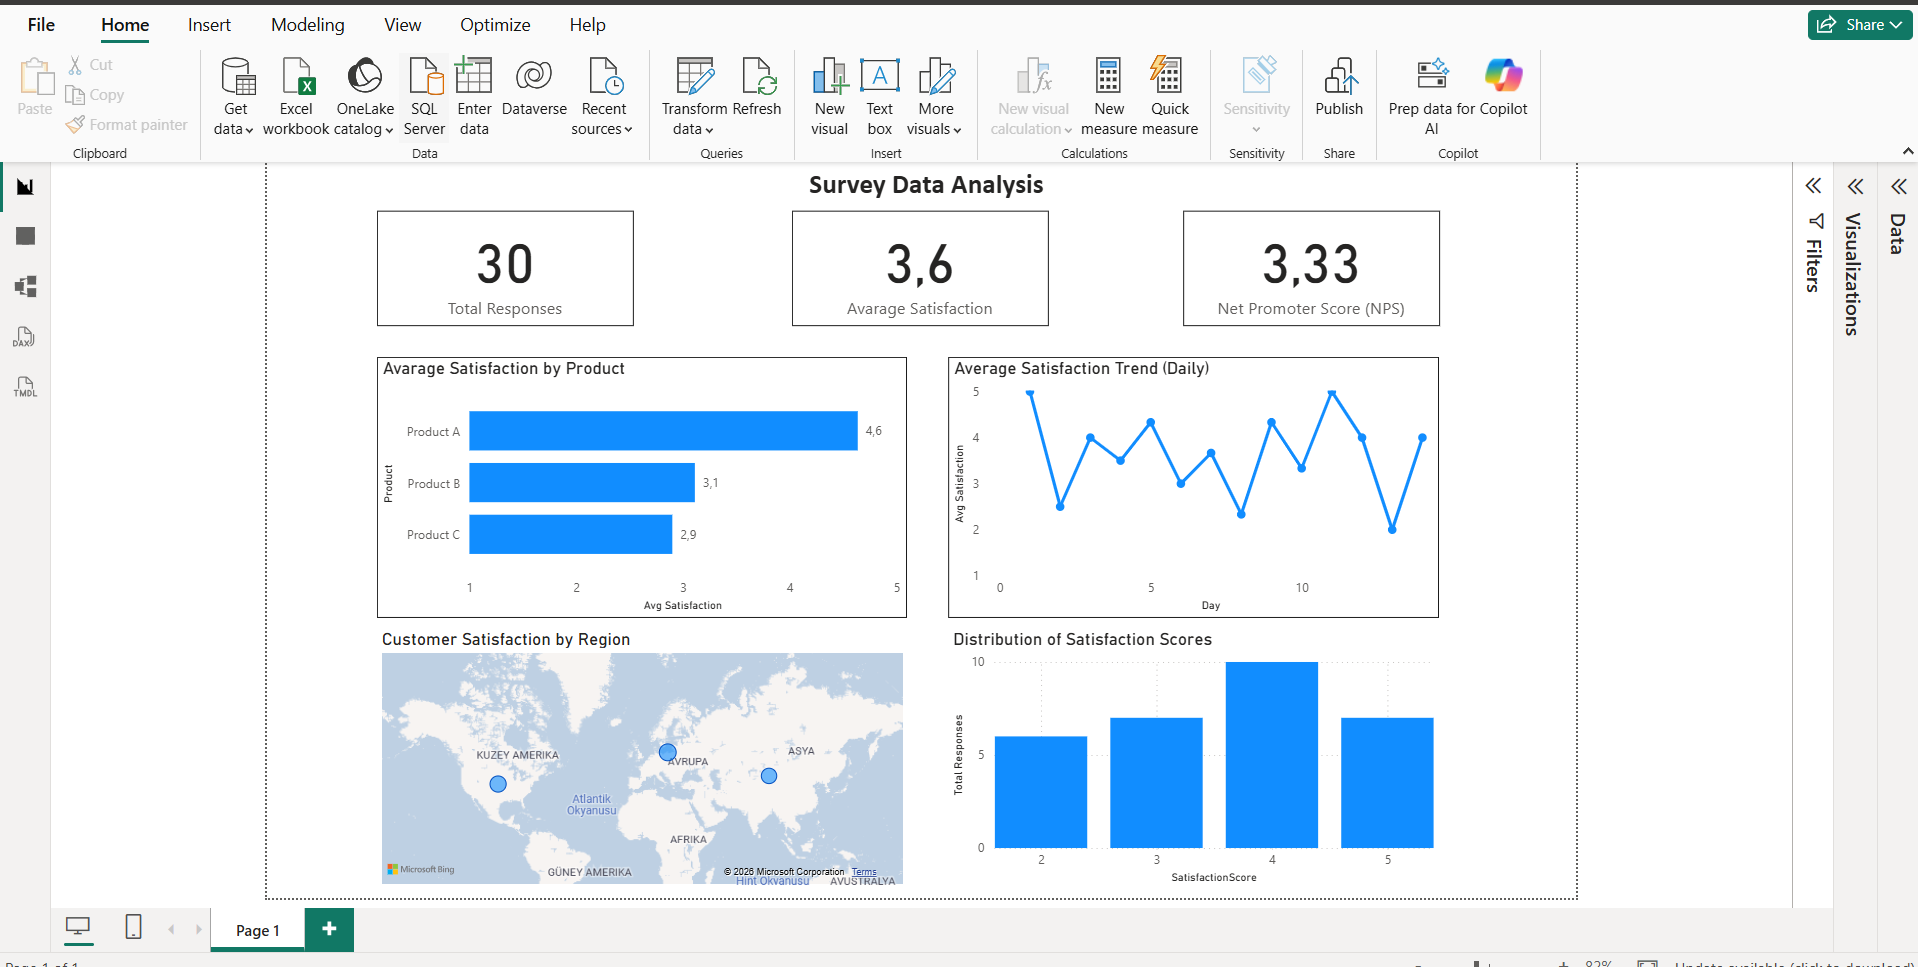

The dashboard page shown, as its layout file describes it:
{"tool":"powerbi","page":{"name":"Page 1","canvas":[1280,720],"ordinal":0},"visuals":[{"type":"textbox","box":[9.6,0,1270.7,48],"z":0},{"type":"card","fields":{"Values":["survey_data.Total Responses"]},"box":[107,48,251.1,112.5],"z":1},{"type":"card","fields":{"Values":["survey_data.Avg Satisfaction"]},"box":[513.2,48,251.1,112.5],"z":2},{"type":"card","fields":{"Values":["survey_data.NPS"]},"box":[896.1,48,251.1,112.5],"z":3},{"type":"clusteredBarChart","title":"Avarage Satisfaction by Product","fields":{"Y":["survey_data.Avg Satisfaction"],"Category":["survey_data.Product"]},"box":[107,190.7,518.7,255.2],"z":4},{"type":"lineChart","title":"Average Satisfaction Trend (Daily)","fields":{"Y":["survey_data.Avg Satisfaction"],"Category":["survey_data.Date.Variation.Date Hierarchy.Day"]},"box":[666.9,190.7,480.3,255.2],"z":5},{"type":"map","title":"Customer Satisfaction by Region","fields":{"Category":["survey_data.Region"],"Size":["survey_data.Total Responses"],"Y":["survey_data.Avg Satisfaction"]},"box":[107,456,519,255],"z":6},{"type":"clusteredColumnChart","title":"Distribution of Satisfaction Scores","fields":{"Category":["survey_data.SatisfactionScore"],"Y":["survey_data.Total Responses"]},"box":[667,456,480,255],"z":7}]}

Visuals, with their boxes on the page's 1280x720 design canvas (x1, y1, x2, y2). These are canvas units, not pixel positions in the 1918x967 screenshot, which may show the page scaled, cropped or inside an application window:
textbox: x1=10, y1=0, x2=1280, y2=48
card - survey_data.Total Responses: x1=107, y1=48, x2=358, y2=160
card - survey_data.Avg Satisfaction: x1=513, y1=48, x2=764, y2=160
card - survey_data.NPS: x1=896, y1=48, x2=1147, y2=160
"Avarage Satisfaction by Product" clusteredBarChart: x1=107, y1=191, x2=626, y2=446
"Average Satisfaction Trend (Daily)" lineChart: x1=667, y1=191, x2=1147, y2=446
"Customer Satisfaction by Region" map: x1=107, y1=456, x2=626, y2=711
"Distribution of Satisfaction Scores" clusteredColumnChart: x1=667, y1=456, x2=1147, y2=711
